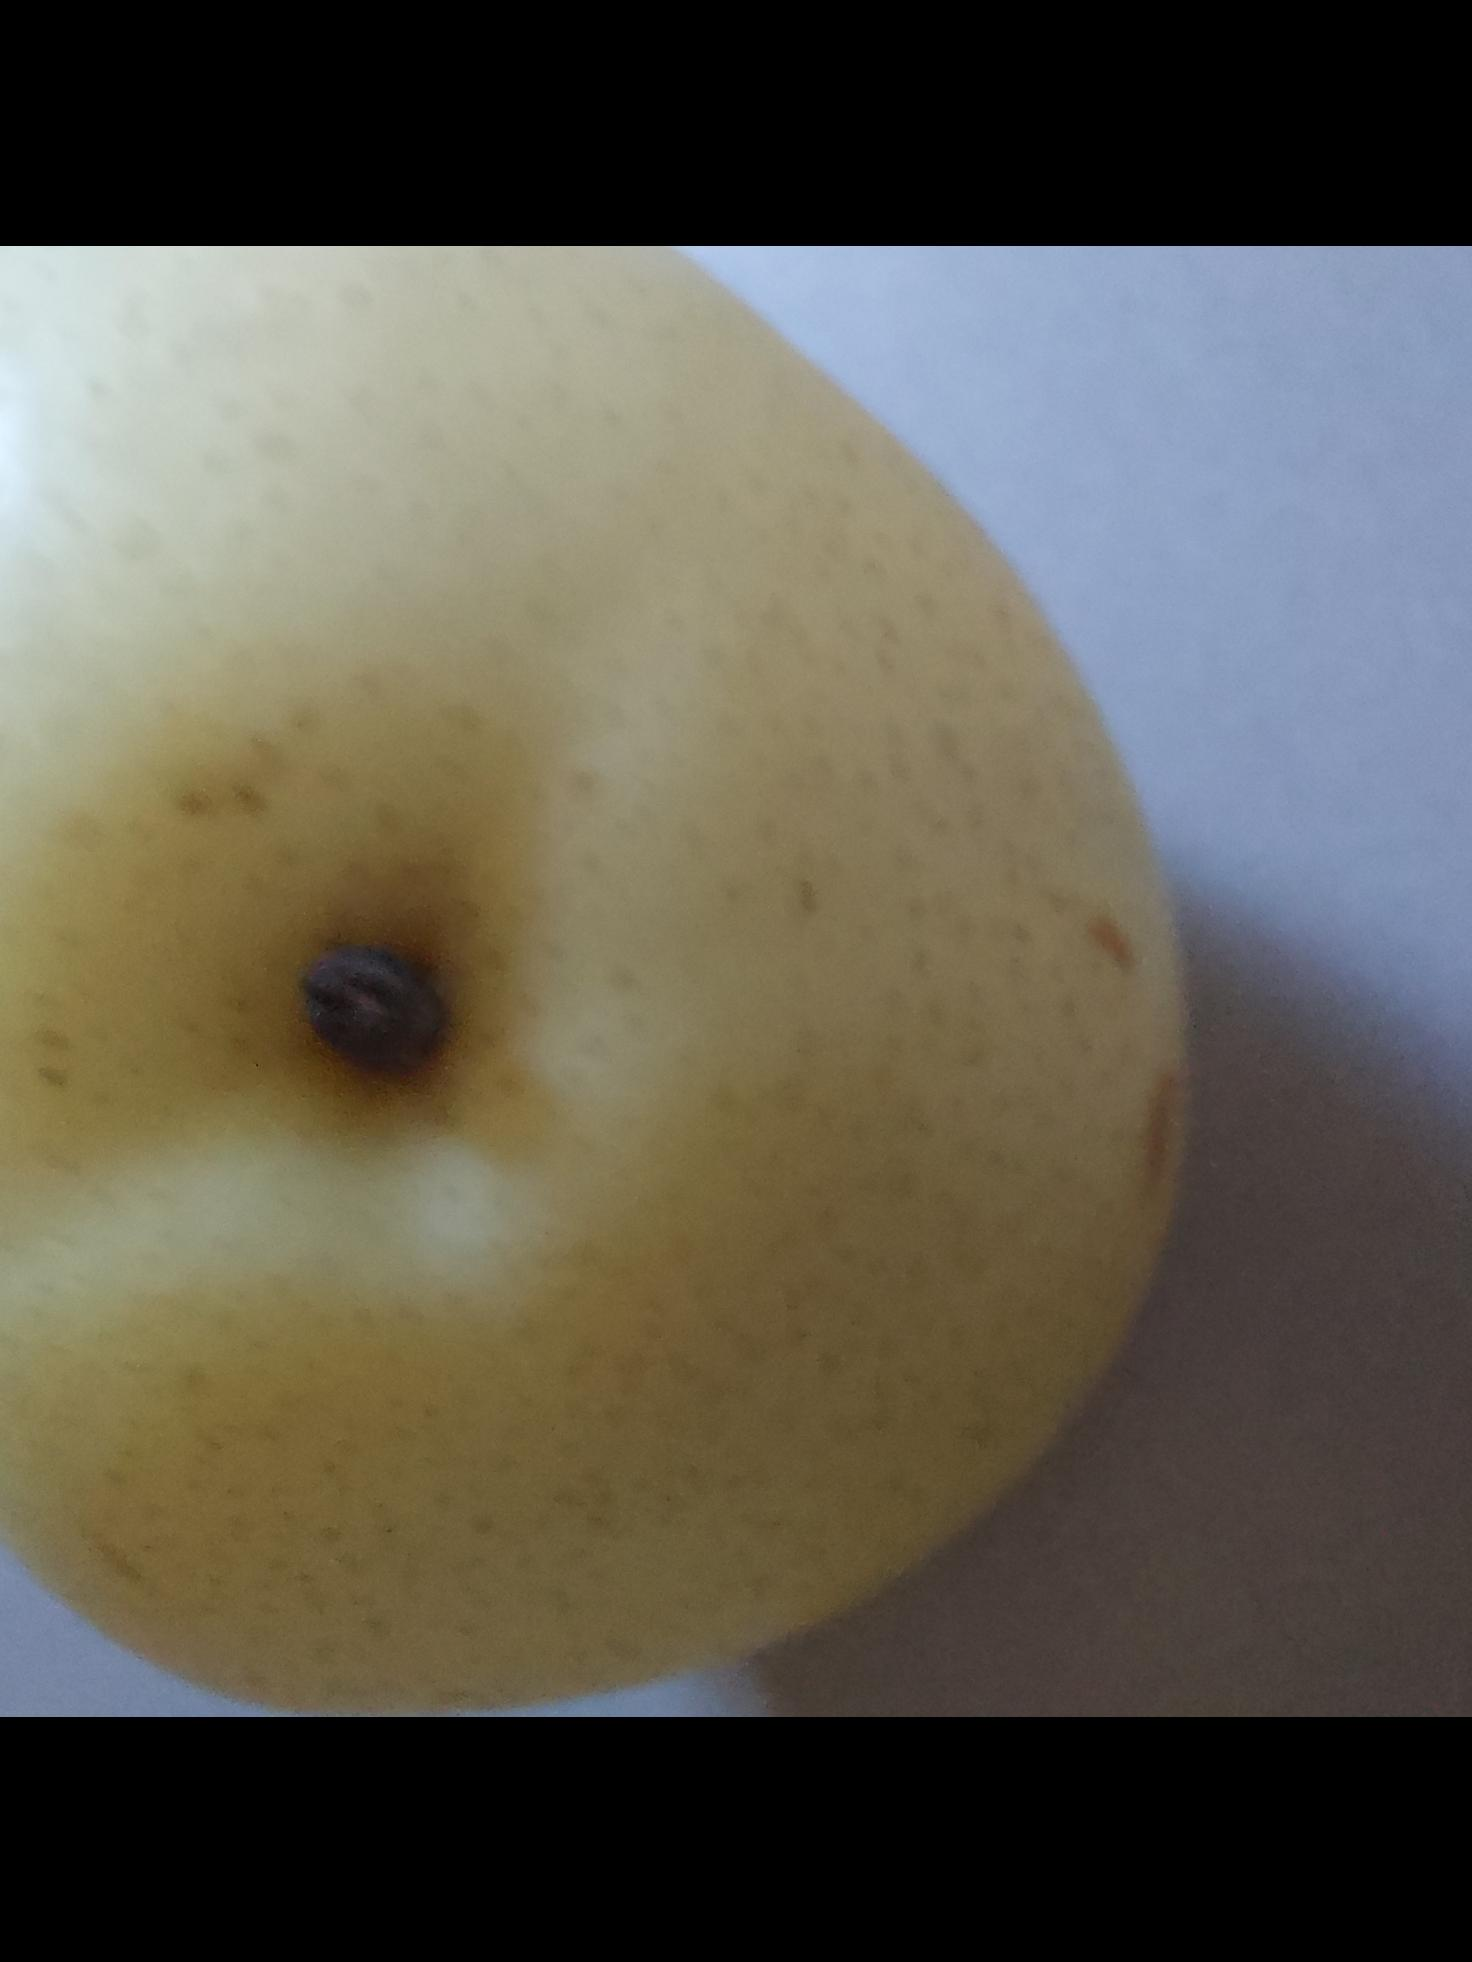Good Pear: (0, 244, 1218, 1716)
